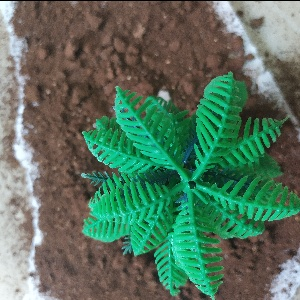plant: (70, 80, 270, 276)
